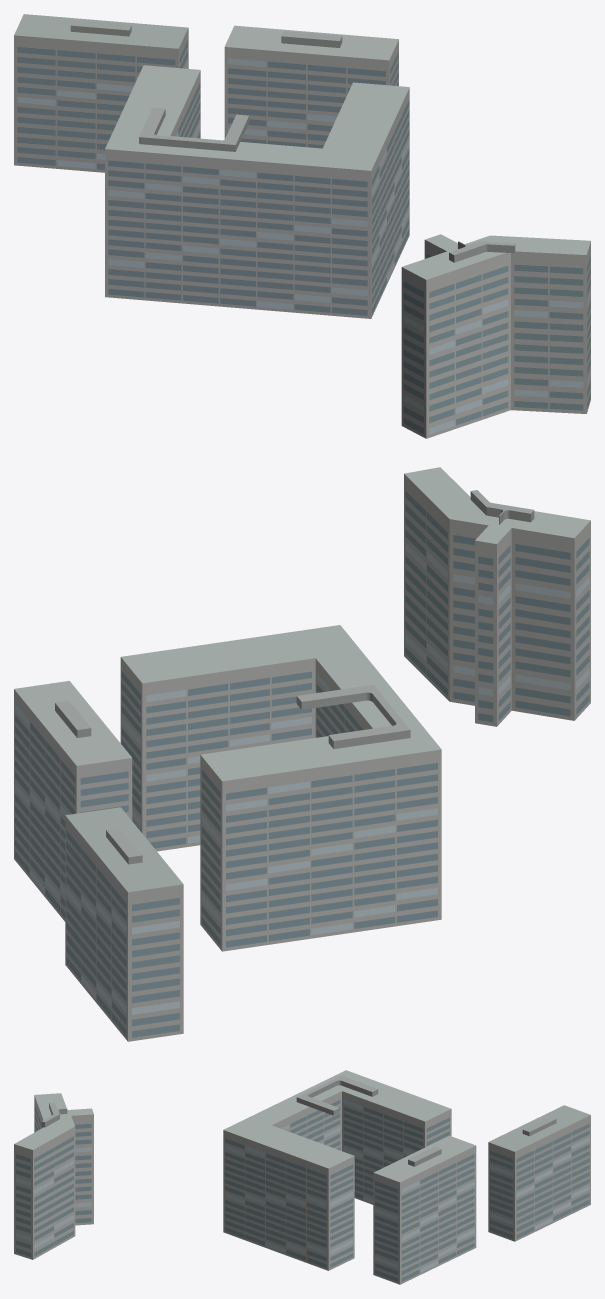
The model's file is apt-a13881302.glb.
3 renders of one model, top to bottom at view 1: azimuth 30°, elevation 25°; view 2: azimuth 150°, elevation 25°; view 3: azimuth 270°, elevation 25°, orthographic. The views are drawn at different scales.
Parts seen in each view (by area): view 1: apt-a13881302; view 2: apt-a13881302; view 3: apt-a13881302.
Boxes of the visible parts, x1,y1,x2,y2 form: apt-a13881302: (14, 14, 590, 438); apt-a13881302: (14, 467, 590, 1041); apt-a13881302: (14, 1070, 590, 1284).
Size of the model in its own units: 92.13 by 44 by 200.
